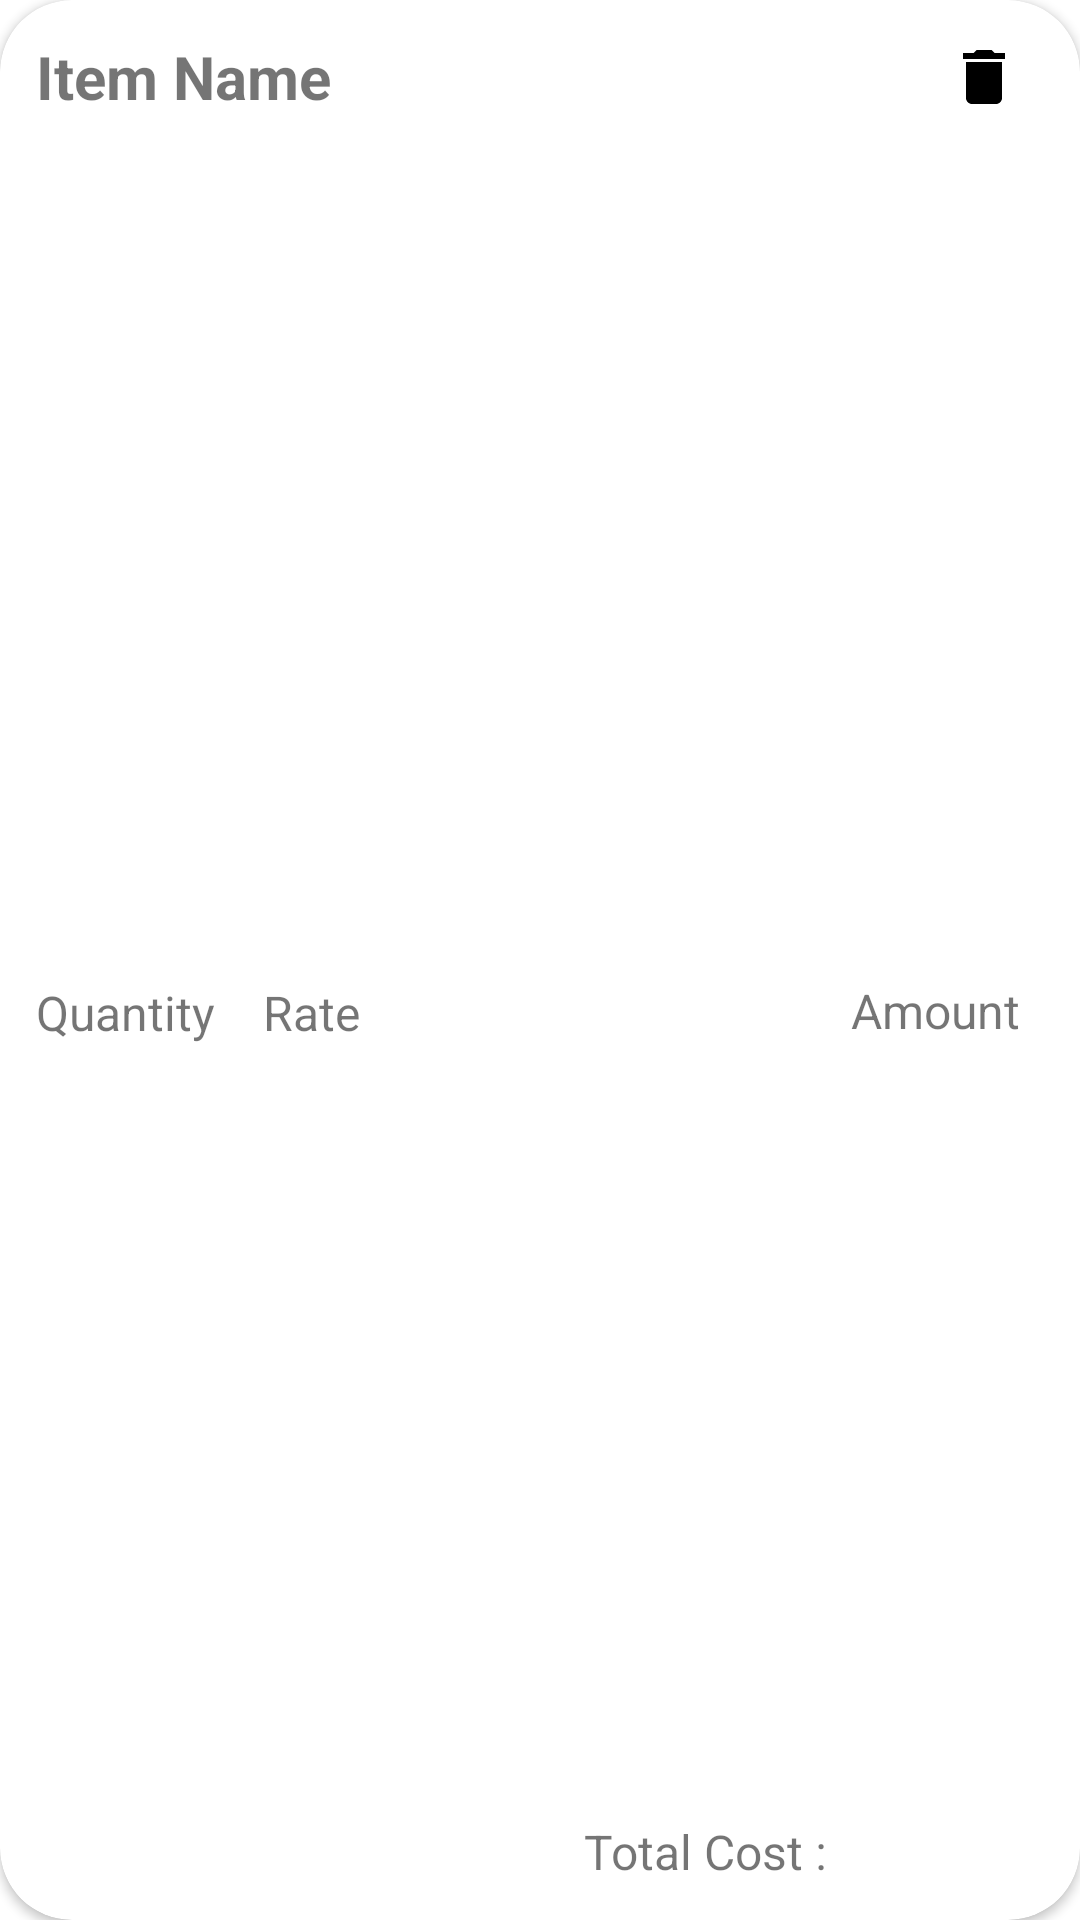

Icon click points for this 1080w x 1920h phone screenshot, format (x=x, y=y):
delete: (x=984, y=77)
